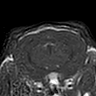Brain: (19, 31, 84, 75)
